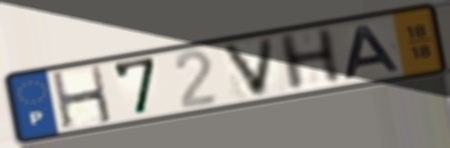2: (172, 48, 221, 113)
7: (110, 55, 160, 119)
A: (342, 22, 405, 81)
H: (274, 25, 347, 95), (49, 63, 116, 131)
V: (218, 34, 279, 100)
